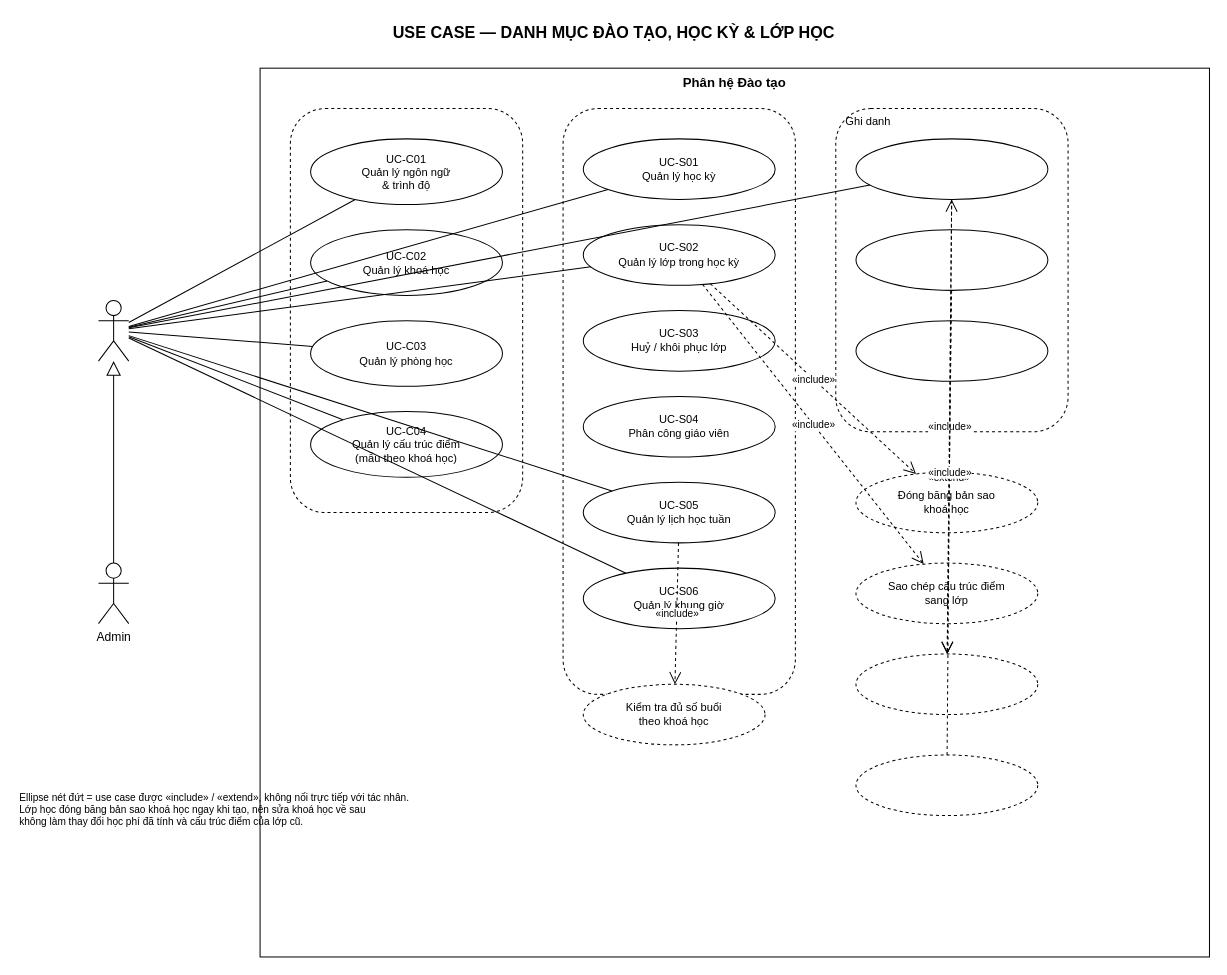
The diagram is 1227 pixels wide and 975 high, and some of its shapes have lost their labels. The box of each missing label's shape, as (x1, y1, x2, y2) in pixels:
Danh mục đào tạo: (289, 108, 523, 513)
Học kỳ & Lớp học: (562, 108, 795, 694)
Nhân viên Học vụ: (97, 299, 129, 361)
Tạo hoá đơn theo học phí đã đóng băng: (855, 653, 1038, 715)
UC-S07 Ghi danh học viên: (855, 138, 1048, 199)
UC-S08 Chuyển lớp: (855, 229, 1048, 290)
UC-S09 Huỷ ghi danh: (855, 320, 1048, 381)
Áp mã giảm học phí: (855, 754, 1038, 816)
